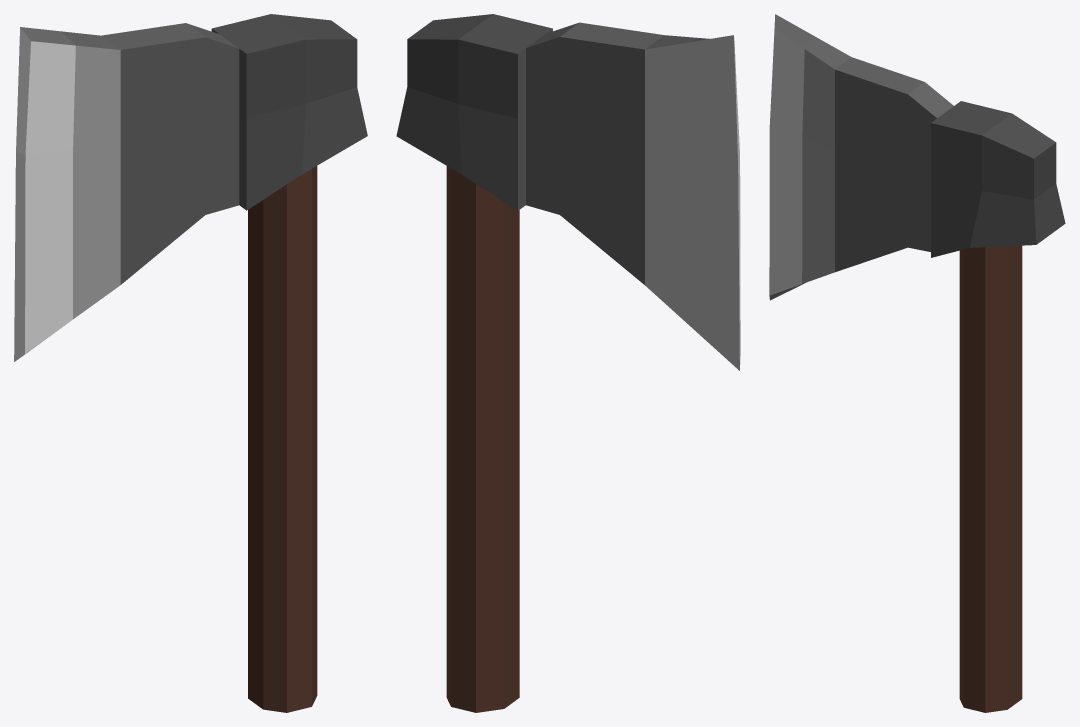
Rendered from dokki.fbx.
3 views of the same model, side by side, from view 1: azimuth 30°, elevation 25°; view 2: azimuth 150°, elevation 25°; view 3: azimuth 330°, elevation 25° (orthographic). The views are drawn at different scales.
Visible parts, largest first — view 1: dokki; view 2: dokki; view 3: dokki.
Boxes of the visible parts, x1,y1,x2,y2 form: dokki: (14, 14, 367, 712); dokki: (396, 14, 740, 712); dokki: (769, 14, 1065, 712).
Size of the model in its own units: 124 by 261 by 29.66.
